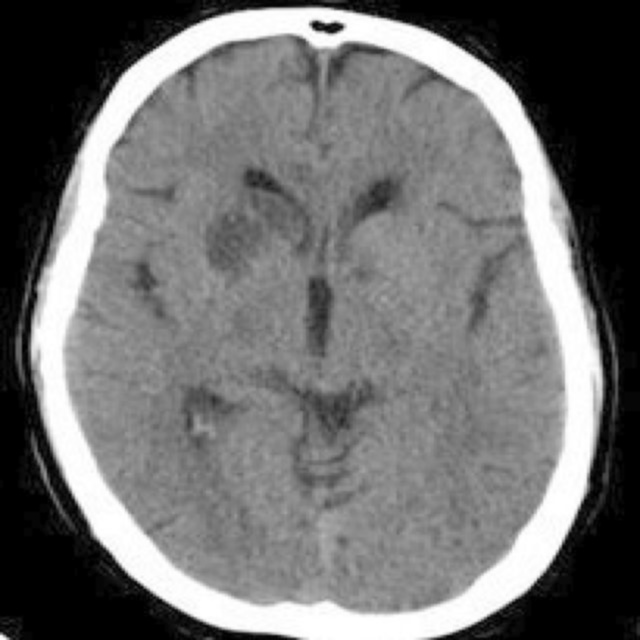glioma tumor: (147, 49, 496, 586)
